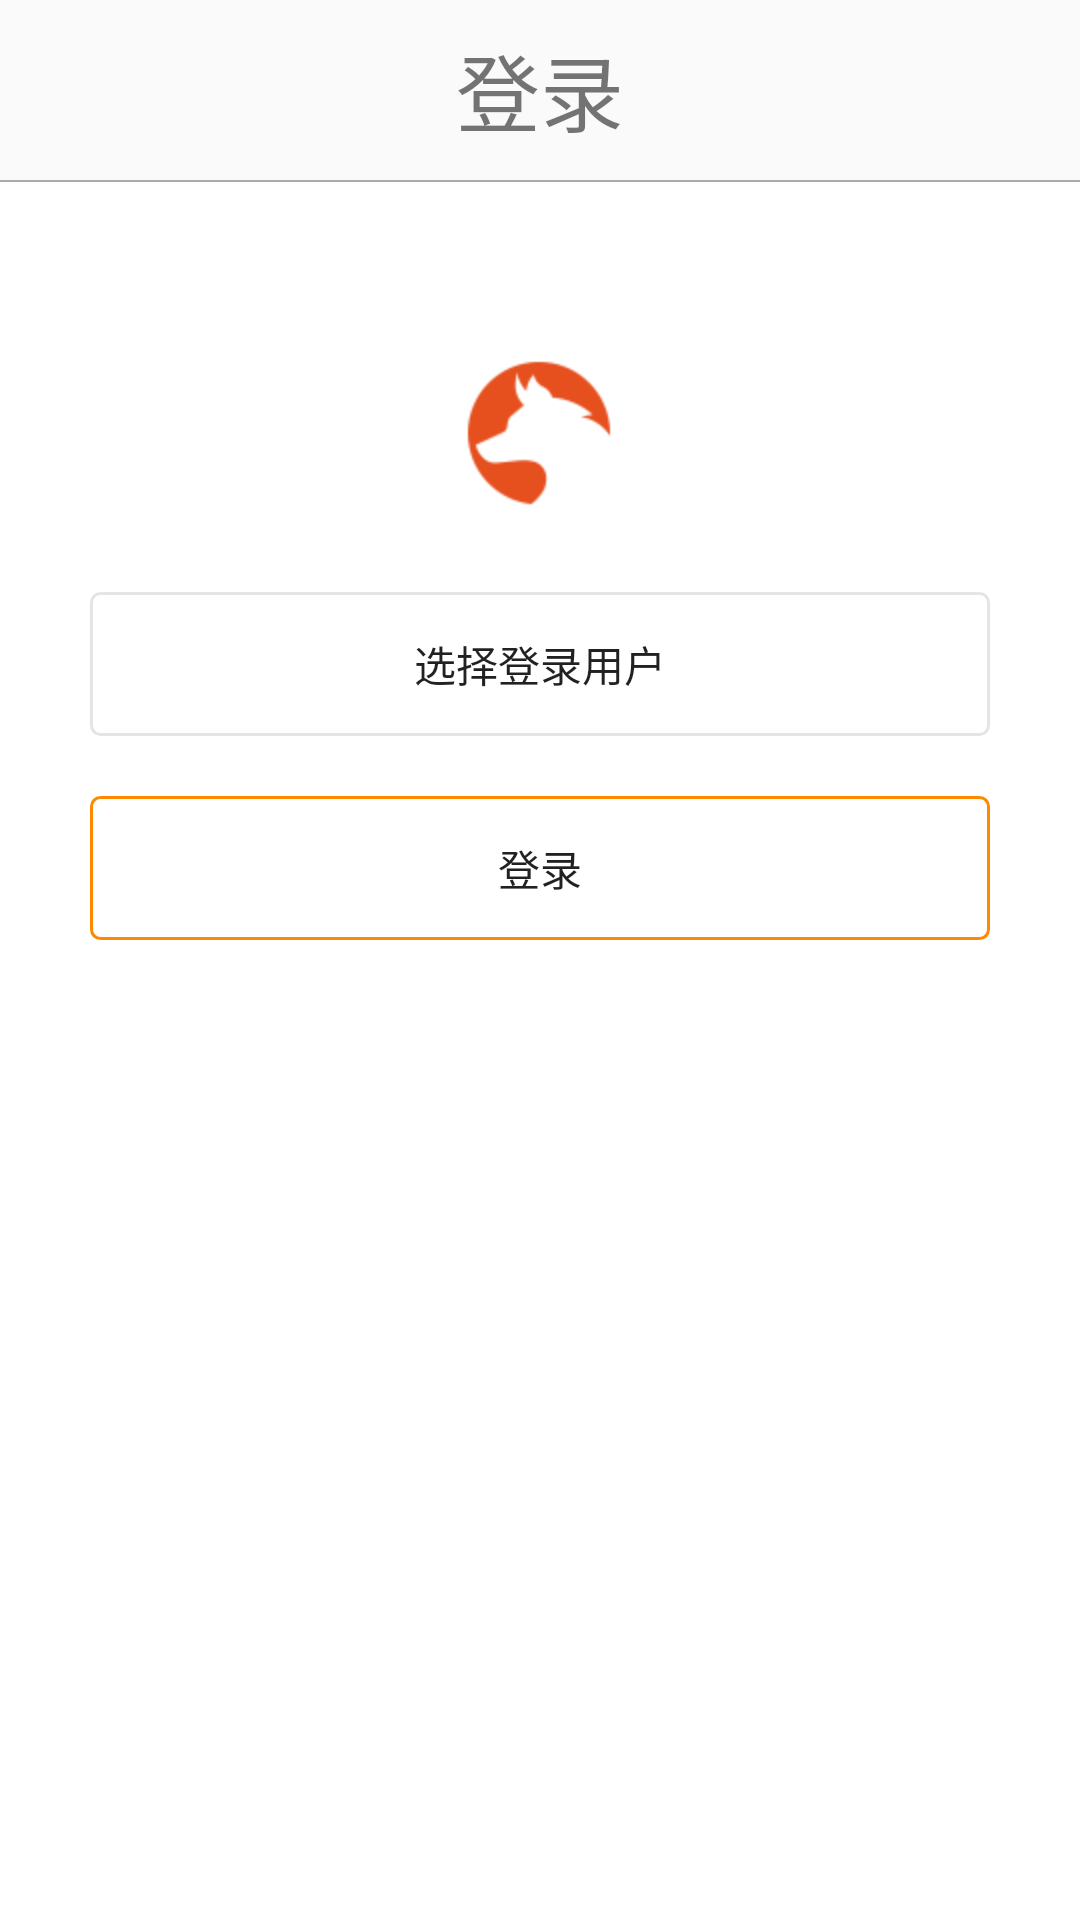

Named icons in this screenshot (1080x1920) and their bounding boxes, (x1, y1, x2, y2):
wildicon: (467, 361, 611, 505)
